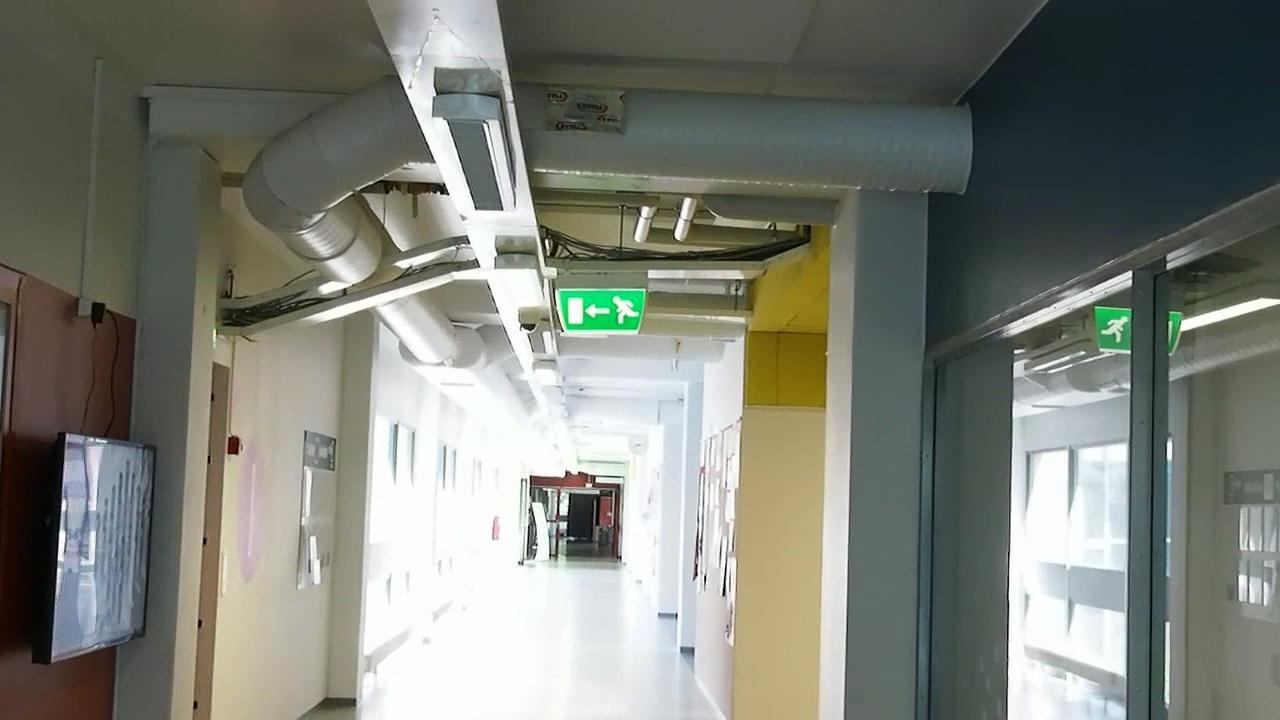exit: (559, 287, 647, 340)
